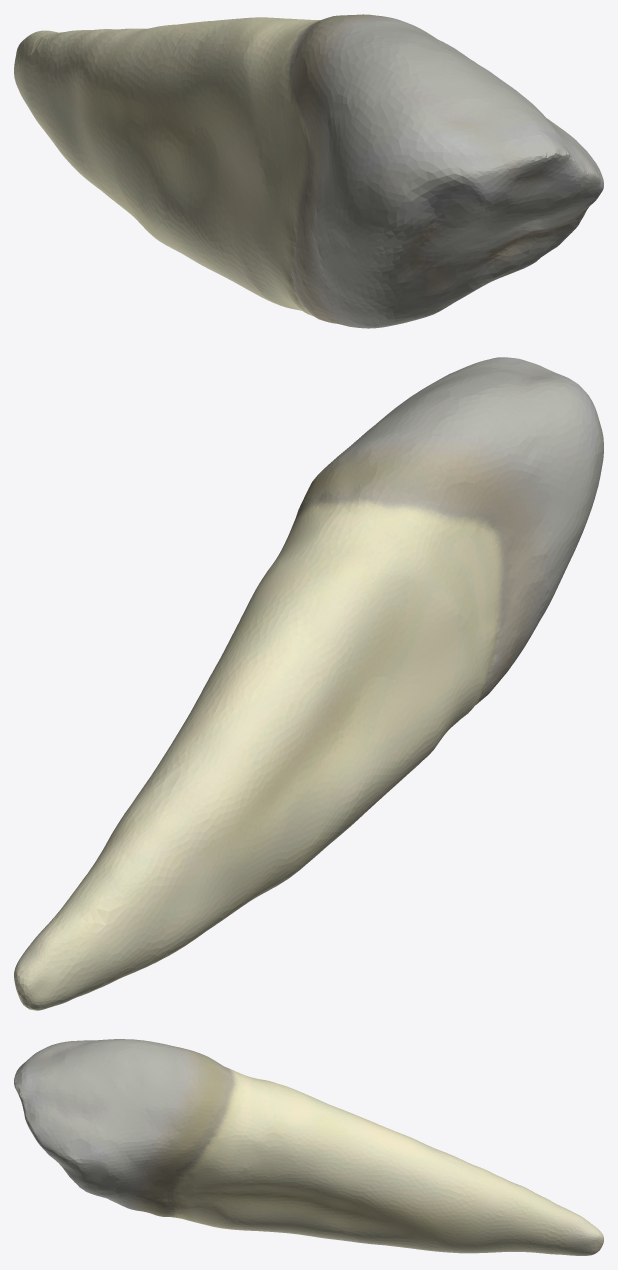
File: 23 - quiz.glb
3 renders of one model, top to bottom at view 1: azimuth 30°, elevation 25°; view 2: azimuth 150°, elevation 25°; view 3: azimuth 270°, elevation 25°, orthographic. The views are drawn at different scales.
Visible parts, largest first — view 1: 3MFMeshParent_0; view 2: 3MFMeshParent_0; view 3: 3MFMeshParent_0.
Part boxes in pixels (x1,y1,x2,y2): 3MFMeshParent_0: (14, 14, 603, 328); 3MFMeshParent_0: (14, 357, 603, 1010); 3MFMeshParent_0: (14, 1039, 603, 1255).
Bounding box in the file's own units: 0.1391 × 0.1959 × 0.512.
1 material, 1 textured.
